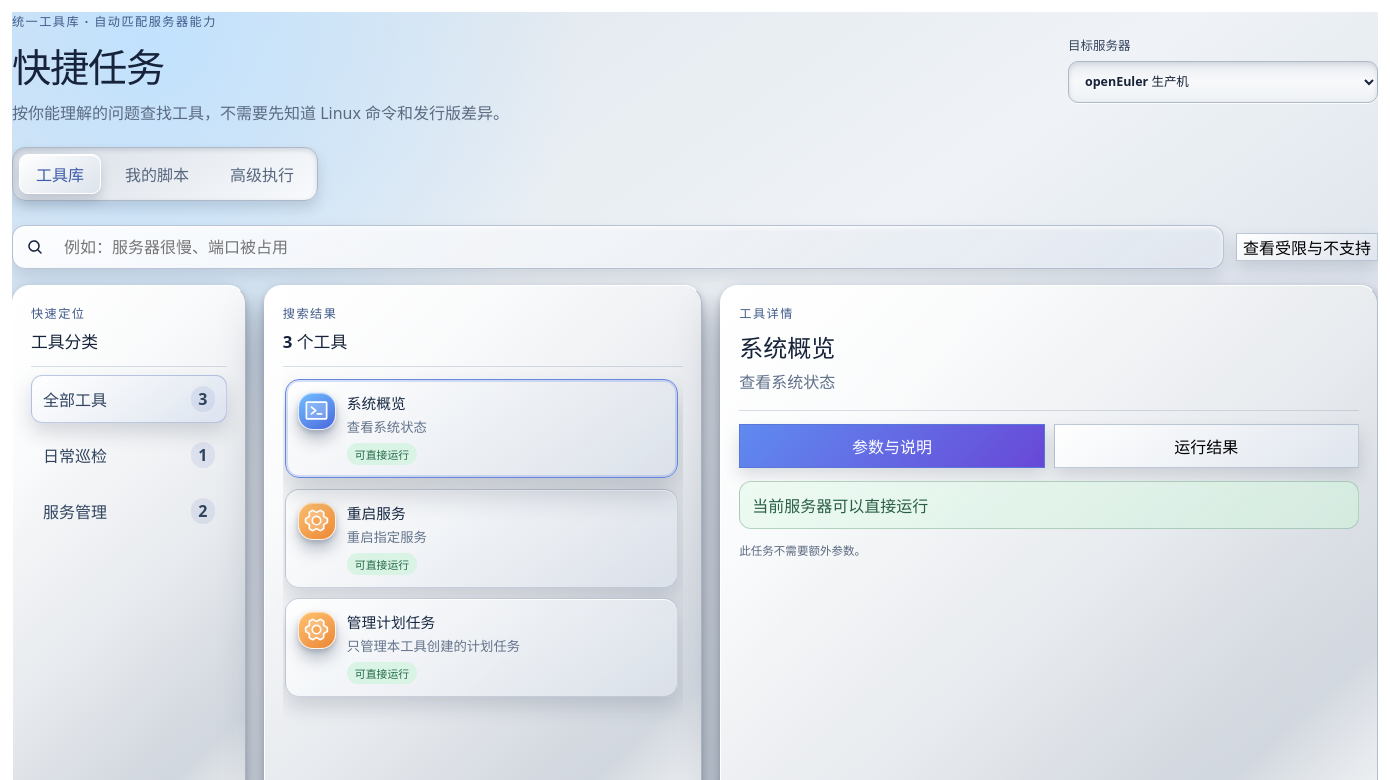
it: TaskPage › keeps category, list and details visible while hiding unavailable tools by default
Expected: the navigation bar labelled "工具分类" is shown, top-left (12, 285), bottom-right (246, 779)
Expected: the element named "工具列表" is shown, top-left (264, 285), bottom-right (702, 779)
Click the button "查看受限与不支持": (1307, 247) top-left (1236, 233), bottom-right (1378, 261)
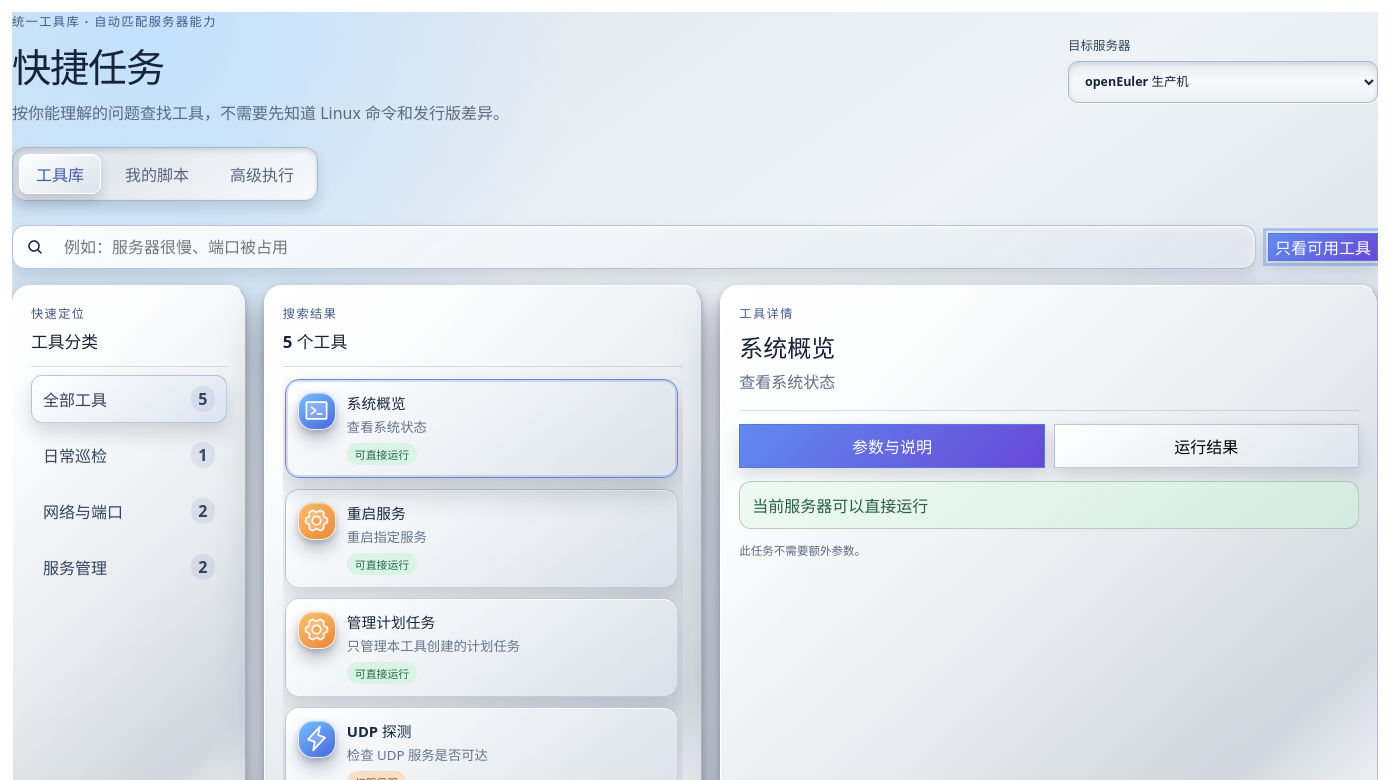
Expected: the heading "UDP 探测" is shown, top-left (347, 721), bottom-right (411, 741)
Expected: the button "网络与端口 2" is shown, top-left (31, 487), bottom-right (227, 535)
